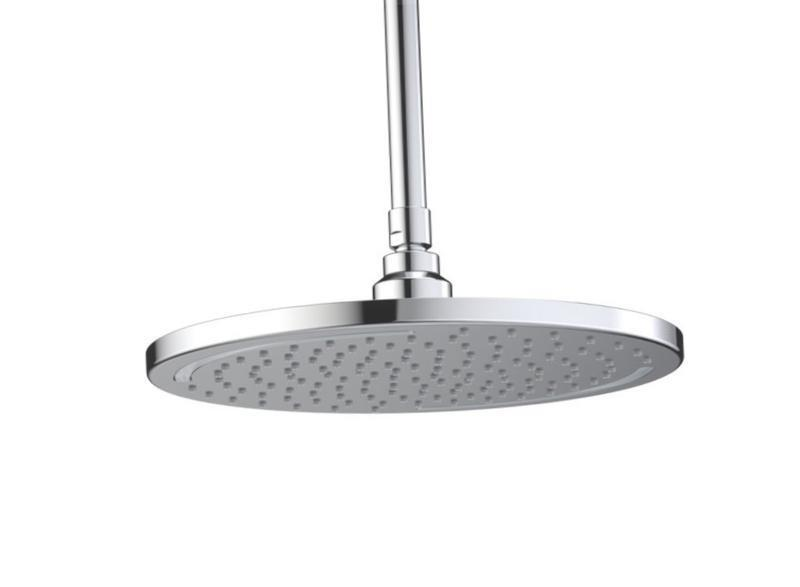Ducha: (149, 4, 683, 444)
